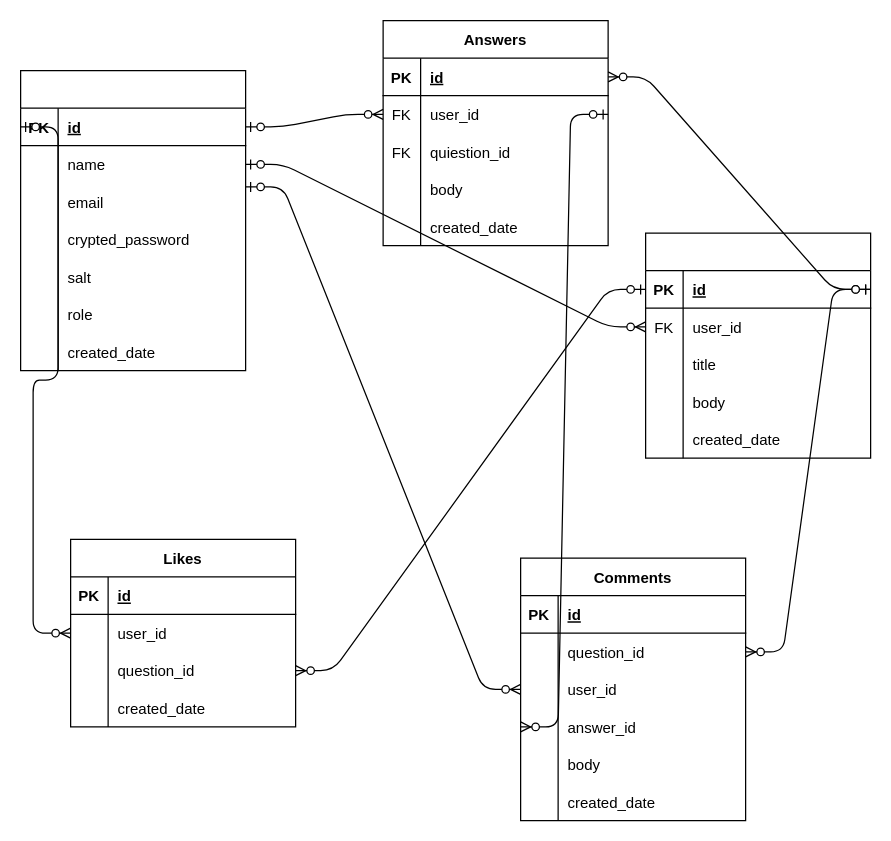
Some shapes in this 891 by 841 pixel diagram are drawn without their labels. The box of each missing label's shape, as (x1, y1, x2, y2) in pixels:
Questions: (644, 232, 871, 458)
Users: (19, 69, 246, 371)
